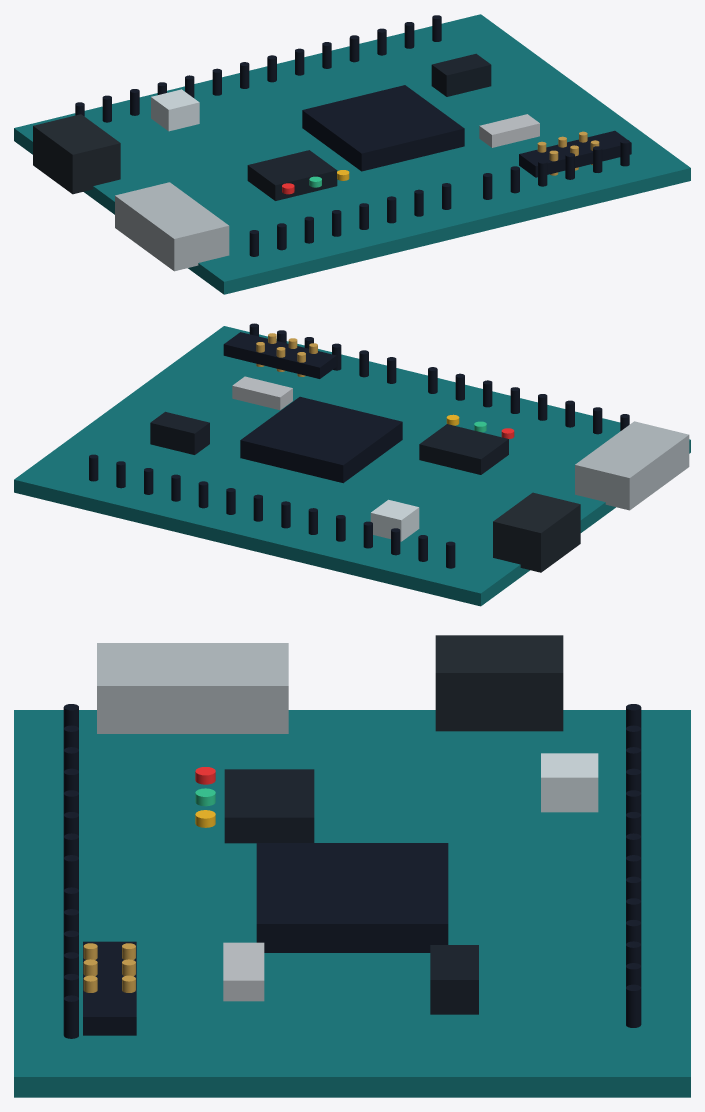
File: arduino-uno.glb
The picture shows the model from 3 angles, top to bottom: view 1: azimuth 30°, elevation 25°; view 2: azimuth 150°, elevation 25°; view 3: azimuth 270°, elevation 25°; orthographic projection. The views are drawn at different scales.
Visible parts, largest first — view 1: UNO PCB, ATmega328P, USB connector, DC barrel jack, USB interface IC, ICSP header, 5V regulator, Reset button, 16 MHz resonator; view 2: UNO PCB, ATmega328P, USB connector, DC barrel jack, USB interface IC, ICSP header, 5V regulator, Reset button, 16 MHz resonator; view 3: UNO PCB, ATmega328P, USB connector, DC barrel jack, USB interface IC, ICSP header, Reset button, 5V regulator, 16 MHz resonator.
Part boxes in pixels (x1=…): UNO PCB: x1=14, y1=14, x2=690, y2=294; ATmega328P: x1=302, y1=85, x2=464, y2=171; USB connector: x1=115, y1=182, x2=229, y2=271; DC barrel jack: x1=33, y1=114, x2=120, y2=194; USB interface IC: x1=247, y1=150, x2=337, y2=200; ICSP header: x1=519, y1=130, x2=631, y2=177; 5V regulator: x1=431, y1=53, x2=491, y2=96; Reset button: x1=151, y1=89, x2=199, y2=131; 16 MHz resonator: x1=479, y1=114, x2=539, y2=147; UNO PCB: x1=14, y1=326, x2=690, y2=606; ATmega328P: x1=240, y1=396, x2=402, y2=483; USB connector: x1=575, y1=421, x2=689, y2=510; DC barrel jack: x1=493, y1=492, x2=580, y2=572; USB interface IC: x1=419, y1=424, x2=508, y2=474; ICSP header: x1=223, y1=332, x2=336, y2=378; 5V regulator: x1=150, y1=411, x2=209, y2=454; Reset button: x1=370, y1=499, x2=419, y2=541; 16 MHz resonator: x1=232, y1=376, x2=292, y2=410; UNO PCB: x1=14, y1=710, x2=690, y2=1097; ATmega328P: x1=256, y1=843, x2=448, y2=952; USB connector: x1=97, y1=643, x2=288, y2=733; DC barrel jack: x1=435, y1=635, x2=563, y2=731; USB interface IC: x1=224, y1=769, x2=314, y2=843; ICSP header: x1=83, y1=941, x2=136, y2=1035; Reset button: x1=541, y1=753, x2=598, y2=812; 5V regulator: x1=430, y1=945, x2=478, y2=1014; 16 MHz resonator: x1=223, y1=942, x2=264, y2=1001.
Bounding box in the file's own units: 7.15 × 0.685 × 5.3.
